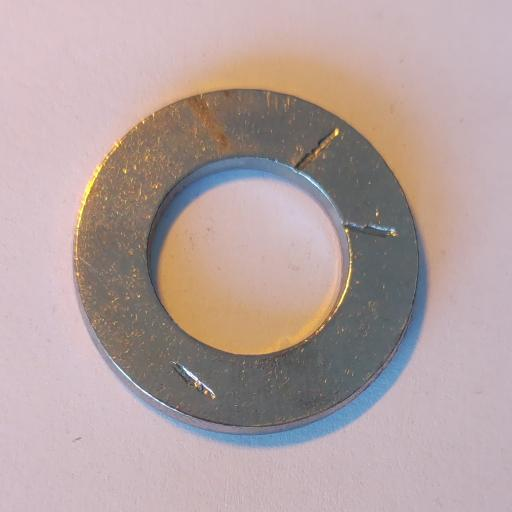scratch: (296, 128, 340, 172), (343, 220, 398, 239)
